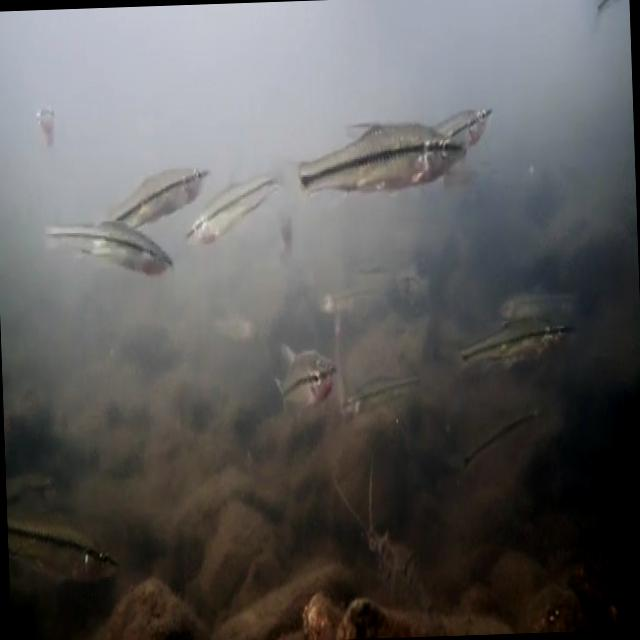Cakil Baligi: (270, 115, 468, 222), (7, 519, 125, 591), (448, 310, 582, 370), (264, 335, 336, 419)
